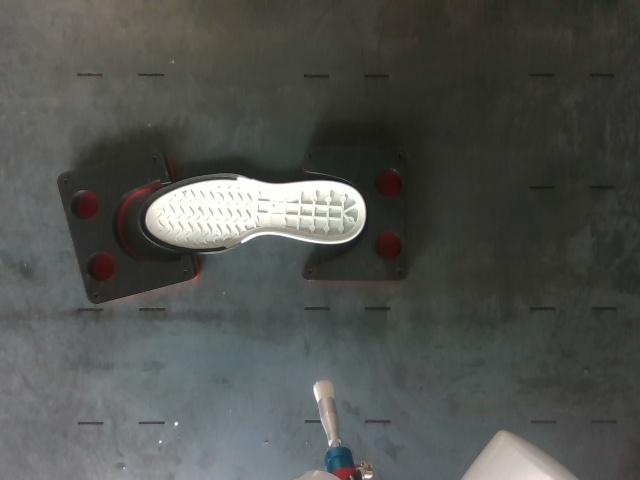shoes: (139, 173, 365, 252)
